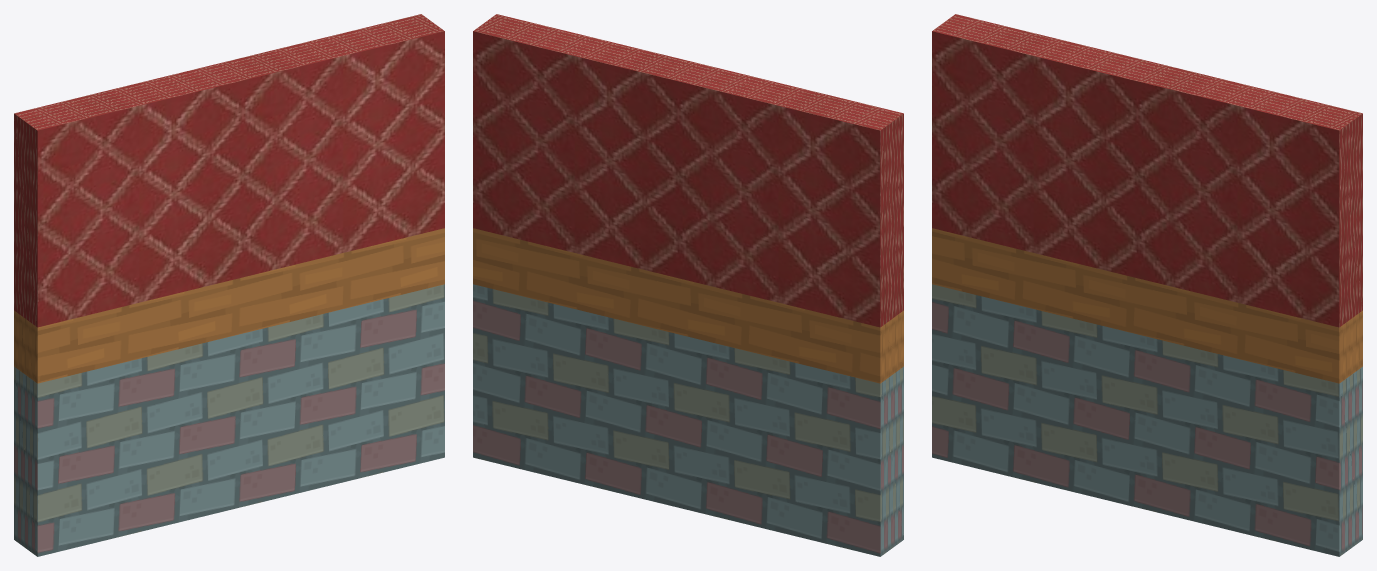
Rendered from Wal6.fbx.
The picture shows the model from 3 angles, left to right: view 1: azimuth 30°, elevation 25°; view 2: azimuth 150°, elevation 25°; view 3: azimuth 330°, elevation 25°; orthographic projection.
Visible parts, largest first — view 1: Cube; view 2: Cube; view 3: Cube.
Part boxes in pixels (box(x1,y1,x2,y2)): Cube: box(14, 14, 444, 556); Cube: box(473, 14, 903, 556); Cube: box(932, 14, 1362, 556).
Size of the model in its own units: 200 by 200 by 20.
